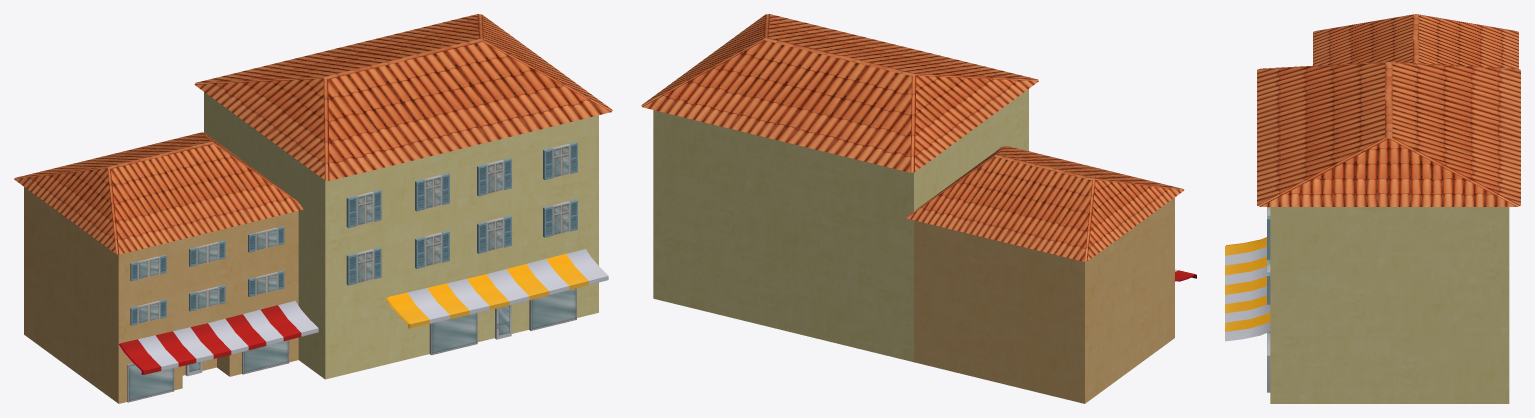
The model's file is Houses_02.fbx.
The picture shows the model from 3 angles, left to right: view 1: azimuth 30°, elevation 25°; view 2: azimuth 150°, elevation 25°; view 3: azimuth 270°, elevation 25°; orthographic projection. The views are drawn at different scales.
Visible parts, largest first — view 1: Houses_02; view 2: Houses_02; view 3: Houses_02.
Part boxes in pixels (x1=…): Houses_02: x1=14, y1=14, x2=612, y2=403; Houses_02: x1=641, y1=14, x2=1196, y2=403; Houses_02: x1=1225, y1=14, x2=1520, y2=403.
Size of the model in its own units: 10.4 by 5.15 by 5.77.
